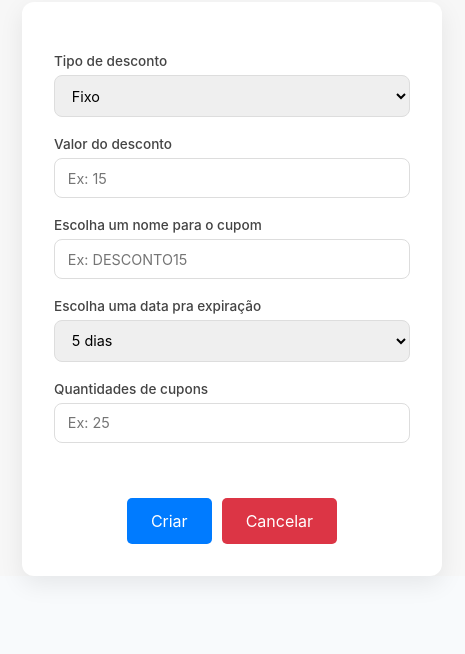
Test: services › should return an error when the status code is 500
Type "DESCONTO15" into the field with placeholder "Ex: DESCONTO15". click: (232, 259)
box: [54,239,410,279]
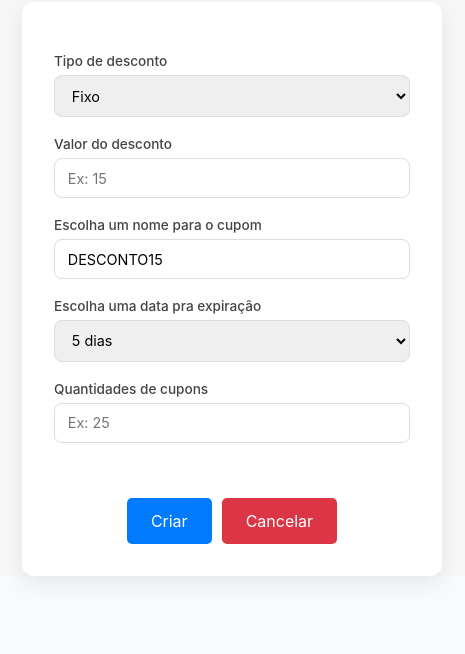
Type "15" into the number field with placeholder "Ex: 15". click: (232, 178)
box: [54,158,410,198]
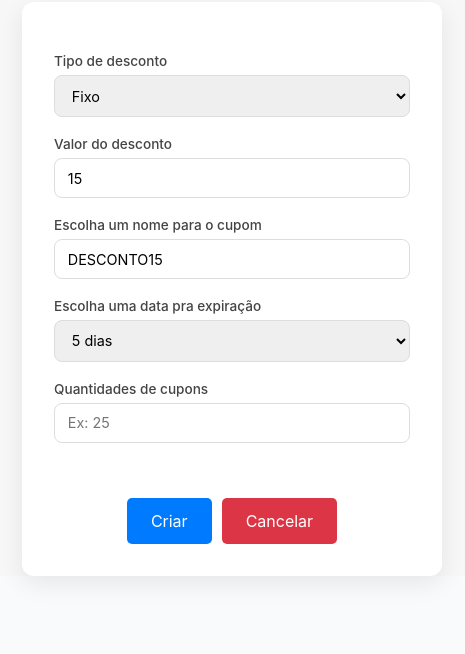
Type "35" into the number field with placeholder "Ex: 25". click: (232, 423)
box: [54,403,410,443]
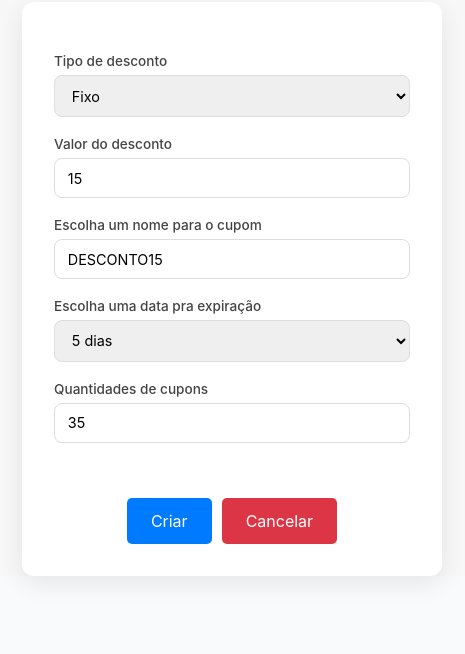
Select "Em porcentagem" in the dropdown with test id "select" below "Tipo de desconto". click: (232, 96)
box: [54,75,410,117]
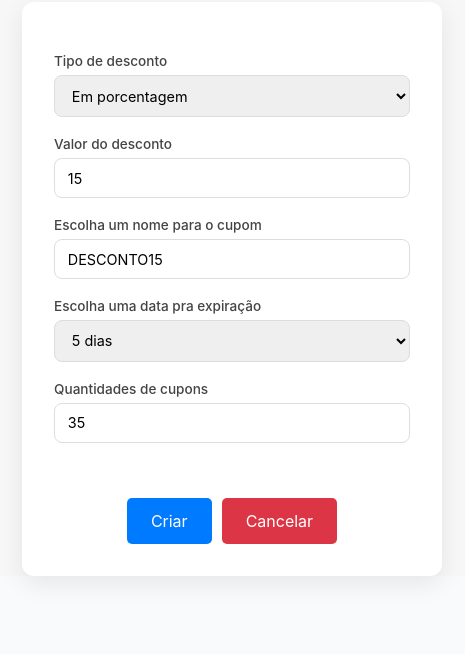
Select "5 dias" in the dropdown with test id "select" below "Escolha uma data pra expiração". click: (232, 341)
box: [54,320,410,362]
Click the button "Criar". click: (169, 521)
box: [127,498,212,544]
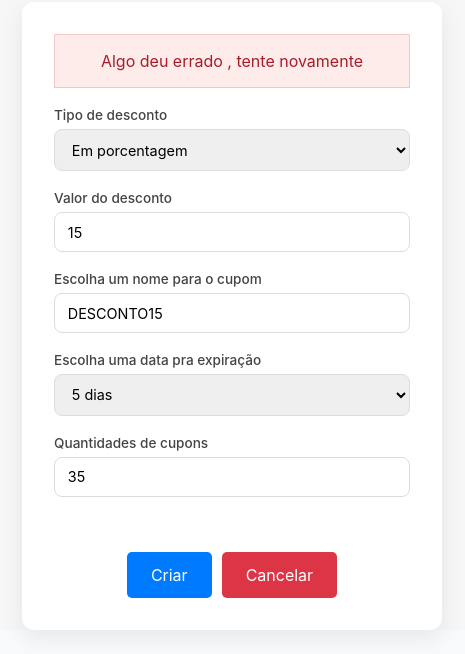
Expected: the text "Algo deu errado , tente novamente" is shown, [101,51,363,71]
